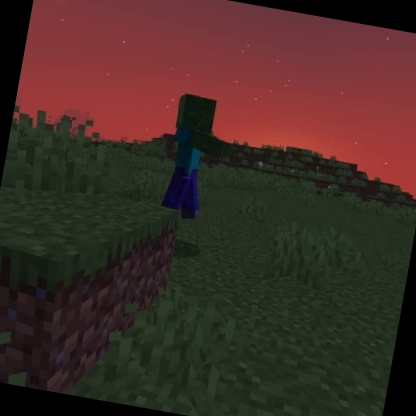zombie: (154, 90, 239, 227)
